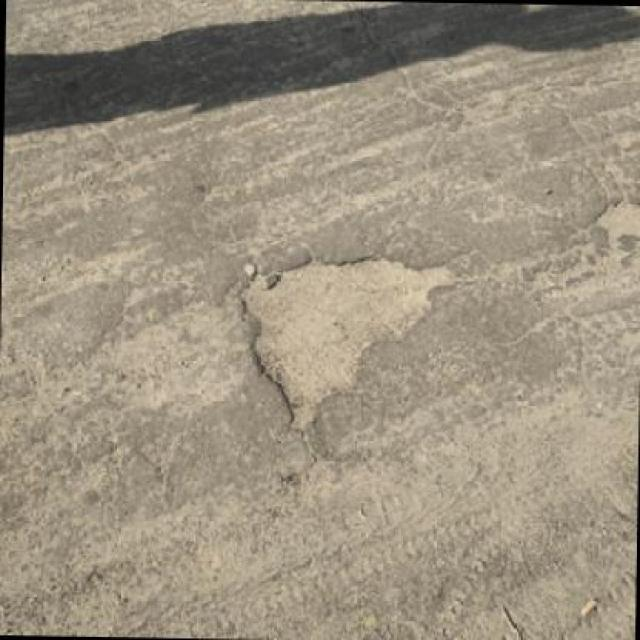pothole1: (225, 248, 461, 434), (588, 196, 638, 244)
